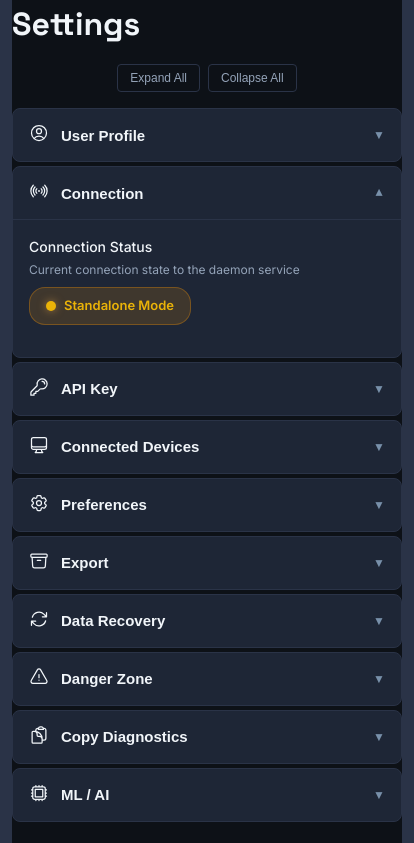
Test case: Settings › Preferences section › renders theme selector
Expand preferences section
Click the button "Preferences ▼".
click(104, 504)  # box left=13, top=478, right=401, bottom=530
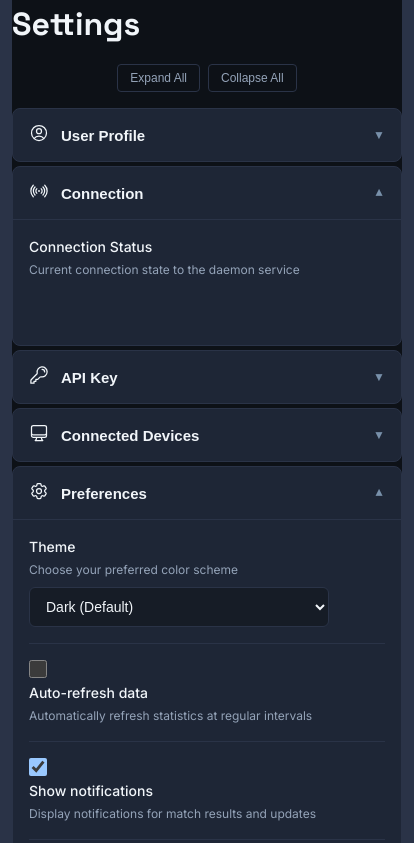
Expected: the text "Theme" is shown, left=29, top=538, right=76, bottom=555
